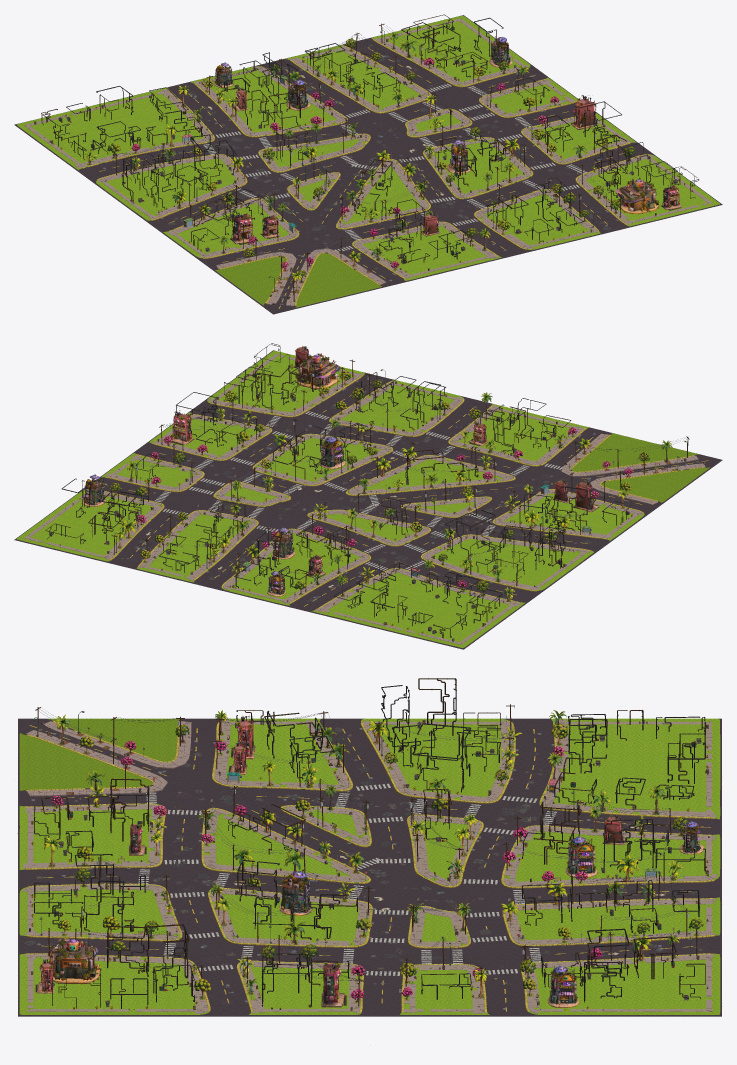
File: toon_city_visual.glb
3 views of the same model, one above another, from view 1: azimuth 30°, elevation 25°; view 2: azimuth 150°, elevation 25°; view 3: azimuth 270°, elevation 25° (orthographic). The views are drawn at different scales.
Visible parts, largest first — view 1: ground_wr_lots, road_wr_asphalt, ground_wr_sidewalk, ground_wr_curbs, wr_street_decals, wr_crosswalks, prop_wk_poles, wk_wires, bld_hero_010, bld_hero_031, bld_hero_028, wr_markings_yellow (+3 smaller); view 2: ground_wr_lots, road_wr_asphalt, ground_wr_sidewalk, ground_wr_curbs, wr_crosswalks, wr_street_decals, prop_wk_poles, wk_wires, bld_hero_010, bld_hero_023, bld_hero_031, bld_hero_059 (+3 smaller); view 3: ground_wr_lots, road_wr_asphalt, ground_wr_sidewalk, ground_wr_curbs, wr_street_decals, wr_crosswalks, wk_wires, prop_wk_poles, bld_hero_010, bld_hero_023, bld_hero_059, bld_hero_044 (+11 smaller).
Part boxes in pixels (<box>): ground_wr_lots: <box>17,15,719,307</box>; road_wr_asphalt: <box>14,15,722,314</box>; ground_wr_sidewalk: <box>23,18,713,306</box>; ground_wr_curbs: <box>82,39,646,305</box>; wr_street_decals: <box>39,31,703,305</box>; wr_crosswalks: <box>203,83,587,251</box>; prop_wk_poles: <box>114,23,623,301</box>; wk_wires: <box>115,24,617,280</box>; bld_hero_010: <box>615,177,659,214</box>; bld_hero_031: <box>570,95,598,129</box>; bld_hero_028: <box>230,212,253,244</box>; wr_markings_yellow: <box>99,48,623,308</box>; ground_wr_lots: <box>17,351,710,647</box>; road_wr_asphalt: <box>14,350,722,649</box>; ground_wr_sidewalk: <box>23,353,705,644</box>; ground_wr_curbs: <box>104,374,704,610</box>; wr_crosswalks: <box>155,411,562,570</box>; wr_street_decals: <box>72,375,699,640</box>; prop_wk_poles: <box>111,359,689,591</box>; wk_wires: <box>115,367,686,573</box>; bld_hero_010: <box>295,353,339,389</box>; bld_hero_023: <box>318,436,345,469</box>; bld_hero_031: <box>166,410,194,445</box>; bld_hero_059: <box>81,474,106,506</box>; ground_wr_lots: <box>19,718,720,1014</box>; road_wr_asphalt: <box>18,718,721,1016</box>; ground_wr_sidewalk: <box>22,719,717,1013</box>; ground_wr_curbs: <box>25,720,714,1013</box>; wr_street_decals: <box>24,722,710,1010</box>; wr_crosswalks: <box>138,783,556,975</box>; wk_wires: <box>37,705,696,980</box>; prop_wk_poles: <box>35,704,697,1006</box>; bld_hero_010: <box>47,938,101,983</box>; bld_hero_023: <box>279,870,312,915</box>; bld_hero_059: <box>547,965,579,1007</box>; bld_hero_044: <box>565,836,597,877</box>.
Bounding box in the file's own units: 184 × 63.49 × 182.
32 materials, 27 textured.
